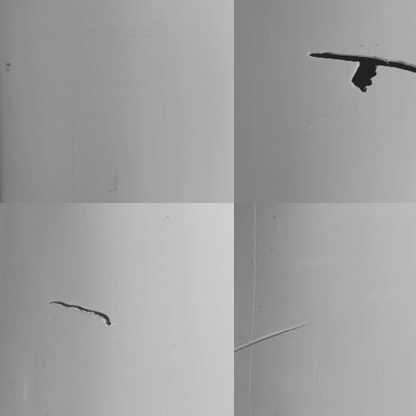fengxi: (49, 300, 113, 332), (308, 51, 415, 69)
kongdong: (350, 61, 379, 93)
sunshang: (235, 318, 309, 357)
